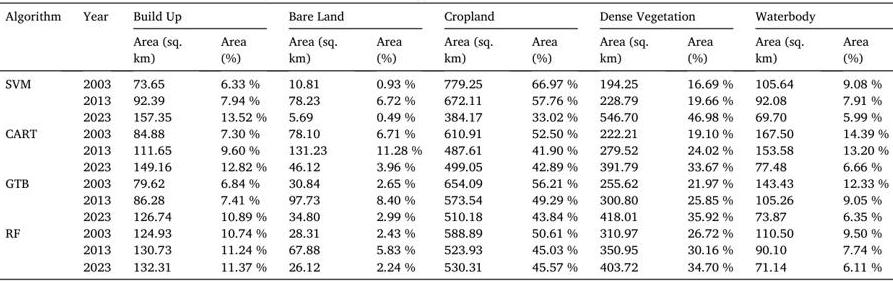table: (4, 4, 888, 275)
table column: (121, 4, 201, 275), (432, 4, 512, 275), (743, 4, 823, 275), (277, 4, 356, 275), (588, 4, 667, 275), (201, 4, 277, 275), (356, 4, 432, 275), (512, 4, 588, 275), (667, 4, 743, 275), (4, 4, 71, 275), (823, 4, 888, 275), (71, 4, 121, 275)
table column header: (4, 4, 888, 69)
table row: (4, 27, 888, 69), (4, 4, 888, 27), (4, 69, 888, 91), (4, 257, 888, 275), (4, 107, 888, 124), (4, 124, 888, 141), (4, 157, 888, 174), (4, 190, 888, 207), (4, 207, 888, 224), (4, 240, 888, 257), (4, 91, 888, 107), (4, 141, 888, 157), (4, 174, 888, 190), (4, 224, 888, 240)
table spanning cell: (4, 4, 71, 69), (4, 69, 71, 124), (121, 4, 277, 27), (432, 4, 588, 27), (277, 4, 432, 27), (588, 4, 743, 27), (4, 224, 71, 275), (4, 124, 71, 174), (4, 174, 71, 224), (743, 4, 888, 27), (71, 4, 121, 69)
